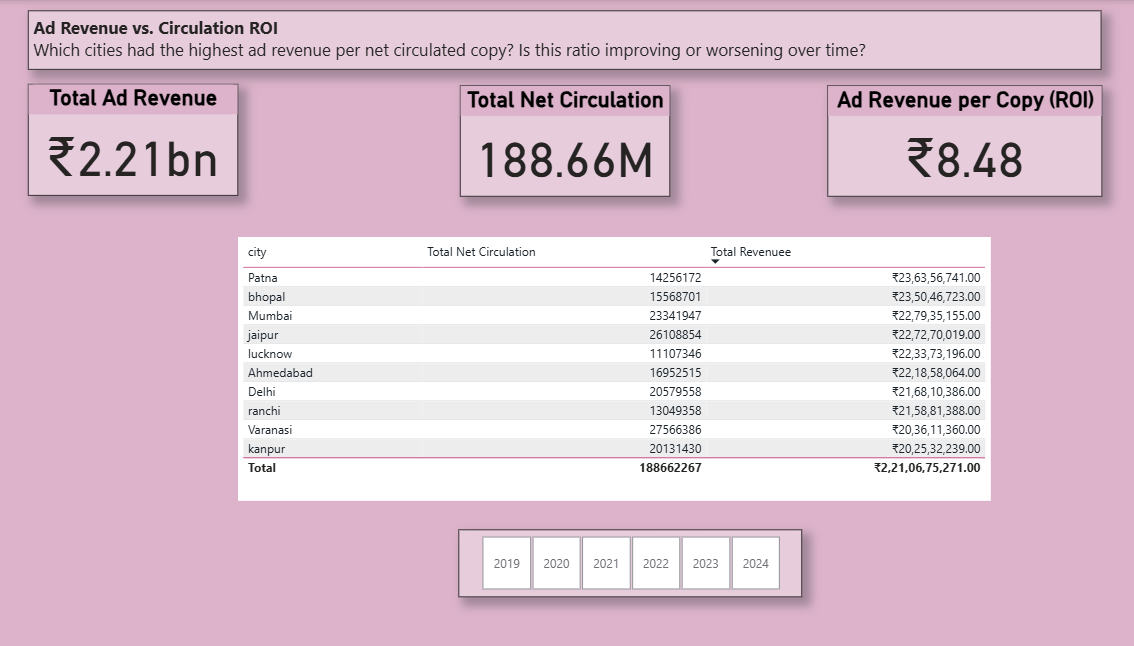

The dashboard page shown, as its layout file describes it:
{"tool":"powerbi","page":{"name":"Ad Revenue vs. Circulation ROI","canvas":[1280,720],"ordinal":6},"visuals":[{"type":"card","title":"Ad Revenue per Copy (ROI)","fields":{"Values":["Key Measures.Ad Revenue per Copy (Fixed)"]},"box":[932.6,94.4,303.1,122.6],"z":2000},{"type":"textbox","box":[50,11.7,1185,65],"z":3000},{"type":"slicer","fields":{"Values":["fact_print_sales.Year_"]},"box":[525.1,584.7,379.3,74.5],"z":5000},{"type":"card","title":"Total Ad Revenue","fields":{"Values":["Key Measures.Total Revenuee"]},"box":[50,93.3,231.7,123.3],"z":5001},{"type":"card","title":"Total Net Circulation","fields":{"Values":["fact_print_sales.Total Net Circulation"]},"box":[526.8,94.4,231.9,122.6],"z":5002},{"type":"tableEx","fields":{"Values":["dim_city.city","fact_print_sales.Total Net Circulation","Key Measures.Total Revenuee"]},"box":[281.6,261.7,831.6,291.5],"z":5004}]}

Visuals, with their boxes in screenshot pixels (x1, y1, x2, y2), scaled from the page's 1280x720 canvas onto the 1134x646 screenshot:
"Ad Revenue per Copy (ROI)" card: box=[826, 85, 1095, 195]
textbox: box=[44, 10, 1094, 69]
slicer - fact_print_sales.Year_: box=[465, 525, 801, 591]
"Total Ad Revenue" card: box=[44, 84, 250, 194]
"Total Net Circulation" card: box=[467, 85, 672, 195]
tableEx - dim_city.city x fact_print_sales.Total Net Circulation: box=[249, 235, 986, 496]
